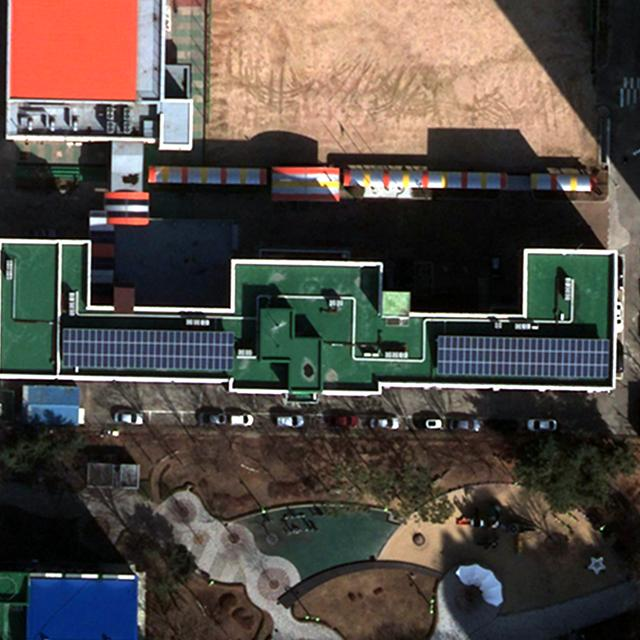panel: (436, 335, 611, 381), (59, 329, 237, 373)
